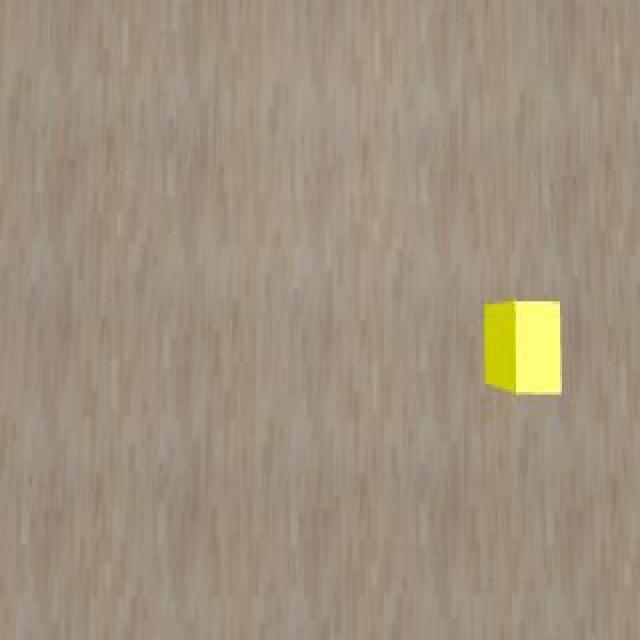cube-cAb5: (483, 299, 563, 396)
